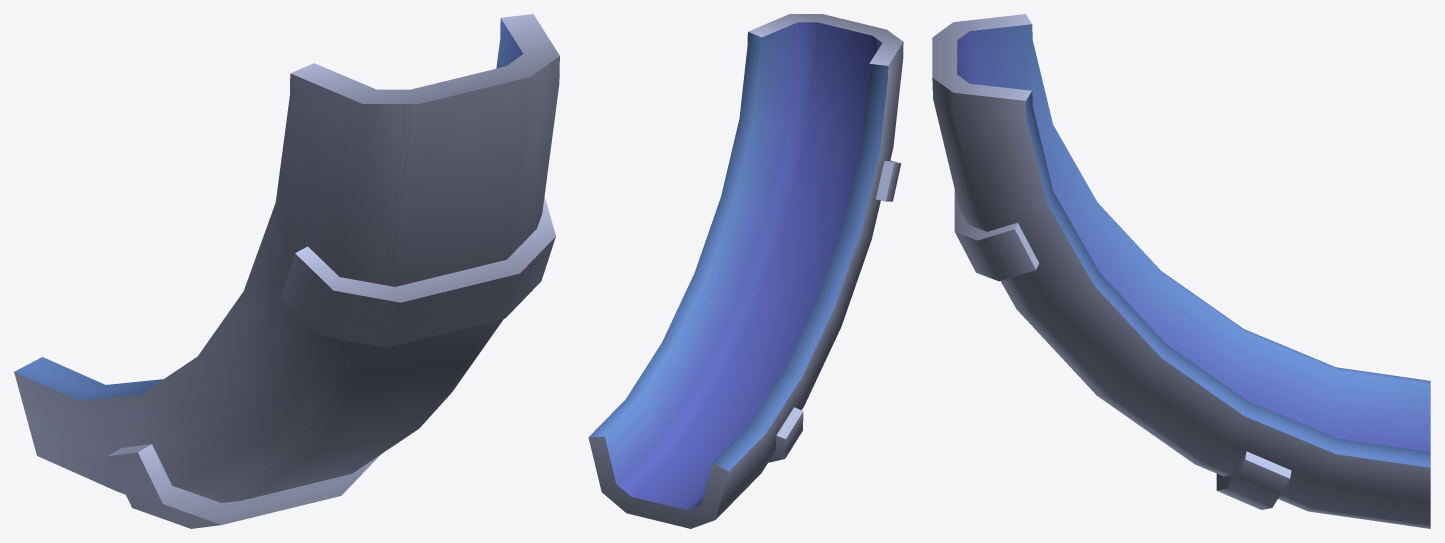
Rendered from coaster-flume-straight-bend.glb.
3 views of the same model, side by side, from view 1: azimuth 30°, elevation 25°; view 2: azimuth 150°, elevation 25°; view 3: azimuth 270°, elevation 25° (orthographic). The views are drawn at different scales.
Visible parts, largest first — view 1: coaster-flume-straight-bend; view 2: coaster-flume-straight-bend; view 3: coaster-flume-straight-bend.
Part boxes in pixels (bbox=[...]): coaster-flume-straight-bend: bbox=[14, 14, 559, 528]; coaster-flume-straight-bend: bbox=[588, 14, 903, 528]; coaster-flume-straight-bend: bbox=[932, 14, 1430, 528].
Bounding box in the file's own units: 0.8446 × 2 × 2.
Materials: 1 (1 with a texture image).
